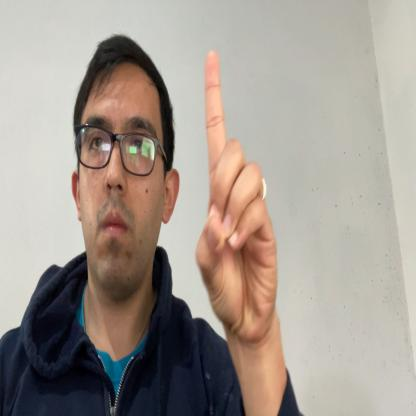D: (196, 50, 278, 342)
